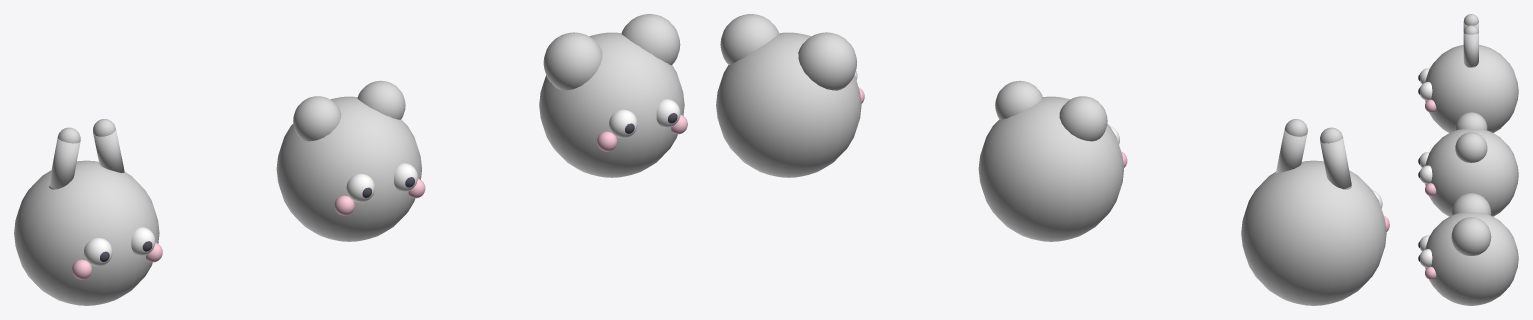
The model's file is plushies.glb.
3 views of the same model, side by side, from view 1: azimuth 30°, elevation 25°; view 2: azimuth 150°, elevation 25°; view 3: azimuth 270°, elevation 25° (orthographic). The views are drawn at different scales.
Visible parts, largest first — view 1: Plush_Bear, Plush_Bunny, Plush_Blob; view 2: Plush_Bear, Plush_Bunny, Plush_Blob; view 3: Plush_Bear, Plush_Bunny, Plush_Blob.
Boxes of the visible parts, left/top/right/bottom form: Plush_Bear: left=539, top=14, right=687, bottom=177; Plush_Bunny: left=14, top=119, right=162, bottom=305; Plush_Blob: left=276, top=80, right=425, bottom=241; Plush_Bear: left=716, top=14, right=864, bottom=177; Plush_Bunny: left=1241, top=119, right=1389, bottom=305; Plush_Blob: left=978, top=80, right=1127, bottom=241; Plush_Bear: left=1418, top=193, right=1518, bottom=305; Plush_Bunny: left=1418, top=14, right=1518, bottom=132; Plush_Blob: left=1418, top=112, right=1518, bottom=216.
Bounding box in the file's own units: 0.6212 × 0.1592 × 0.1272.
